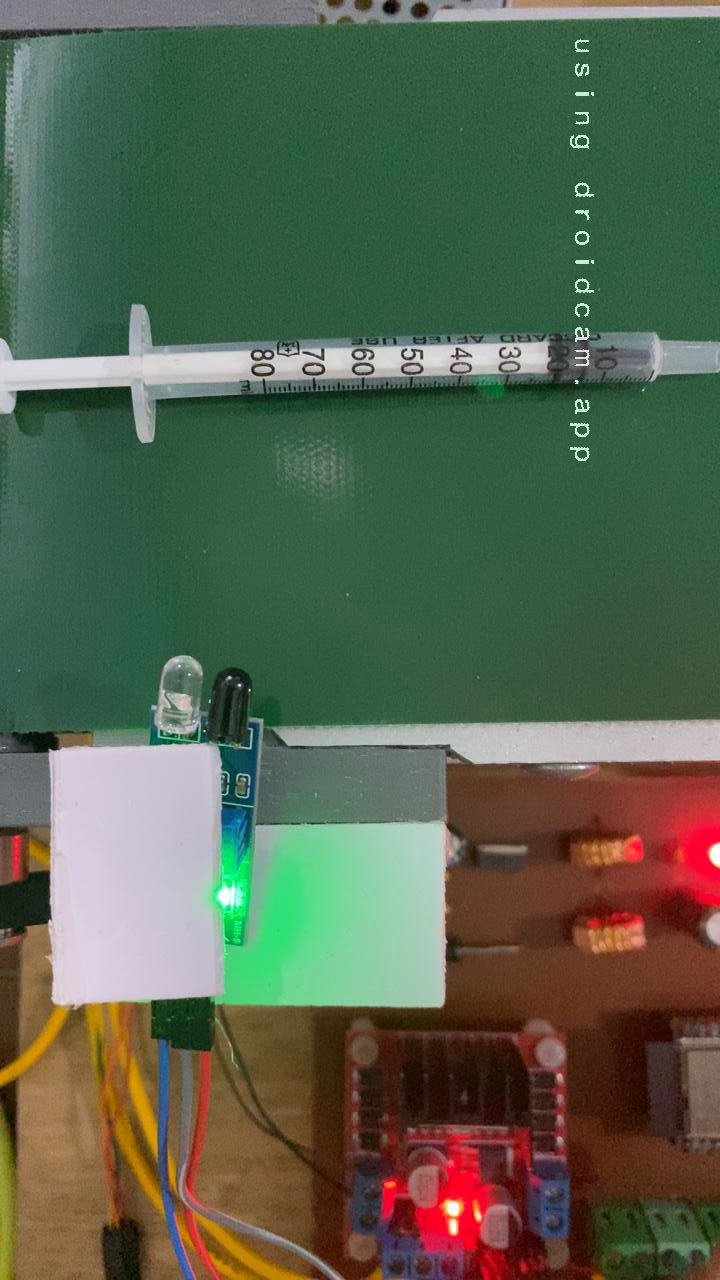syringe: (0, 298, 720, 452)
